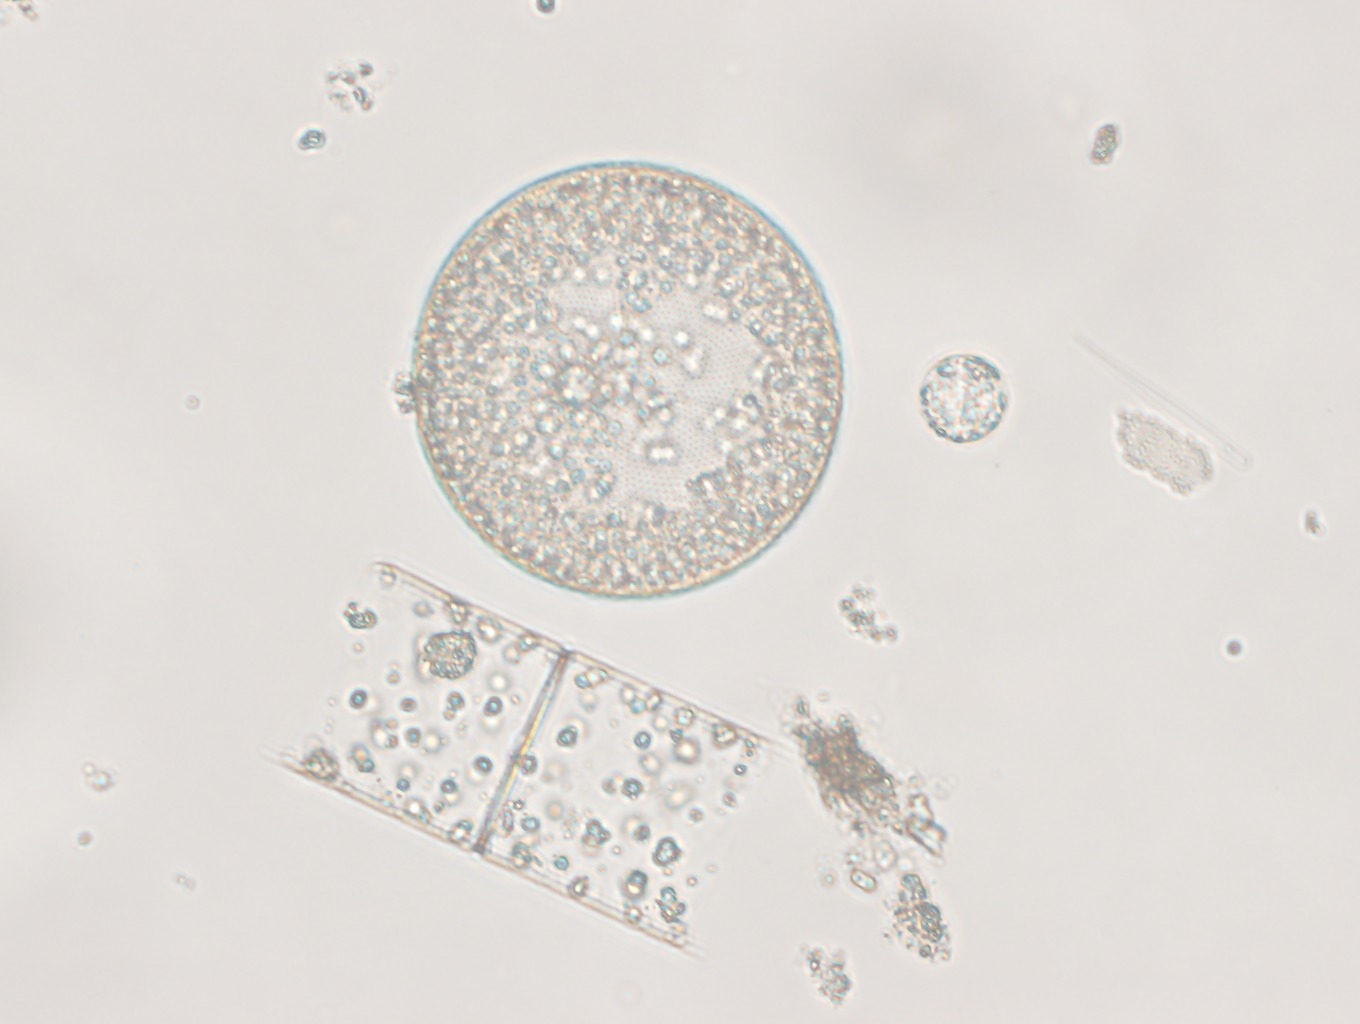coscinodiscus: (407, 155, 844, 599)
guinardia flaccida: (268, 559, 770, 957)
